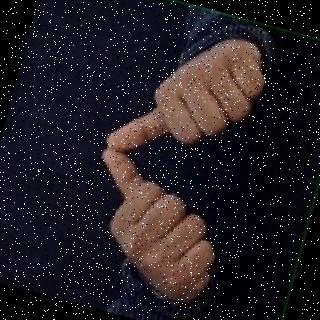A: (62, 4, 298, 315)
